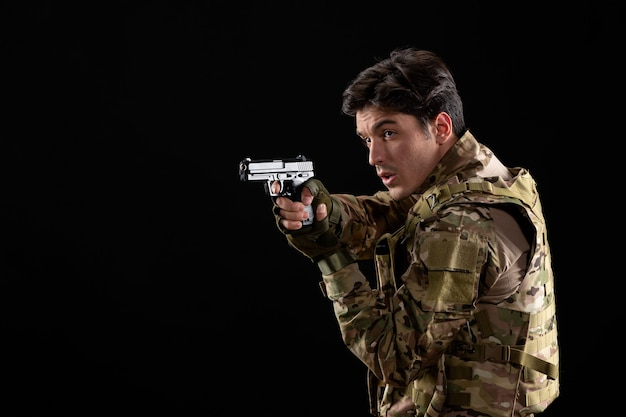gun: (237, 155, 322, 227)
